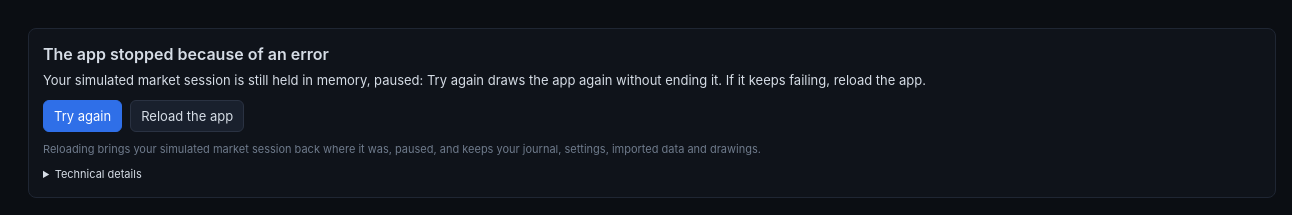
Test: error boundaries › keep the session through a failure of the whole app, paused, and say Try again keeps it
Expected: the heading "The app stopped because of an error" is shown, [43,44,329,64]
Step 1. Click the button "Try again" → (83, 116), box [43,100,122,132]
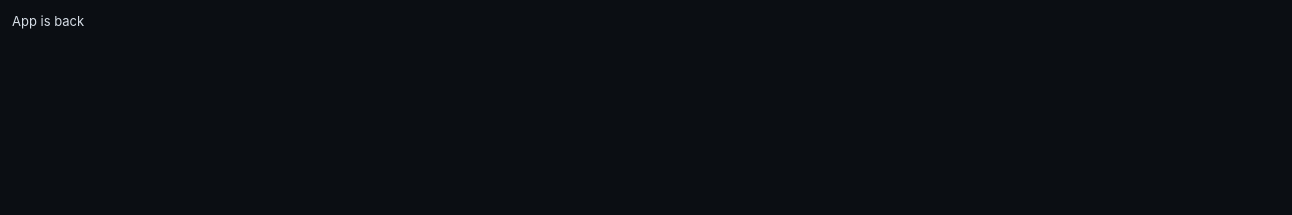
Expected: the text "App is back" is shown, [12,13,84,29]
